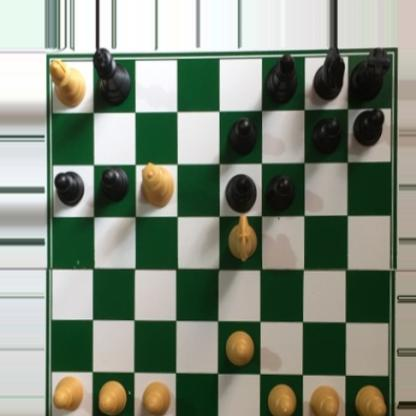black-bishop: (261, 47, 298, 106), (224, 172, 258, 217)
black-king: (90, 47, 134, 107)
black-knight: (313, 47, 346, 104)
black-pawn: (309, 114, 342, 156), (353, 106, 385, 148), (227, 116, 258, 158), (264, 173, 296, 213), (52, 170, 85, 207), (98, 166, 129, 203)
black-rook: (348, 47, 389, 103)
white-bishop: (48, 57, 89, 111)
white-knight: (225, 209, 257, 259)
white-pawn: (51, 371, 86, 413), (223, 328, 257, 371), (94, 378, 129, 416), (267, 376, 300, 416), (139, 380, 172, 416), (352, 382, 386, 416), (308, 383, 341, 416)
white-queen: (140, 161, 175, 207)
